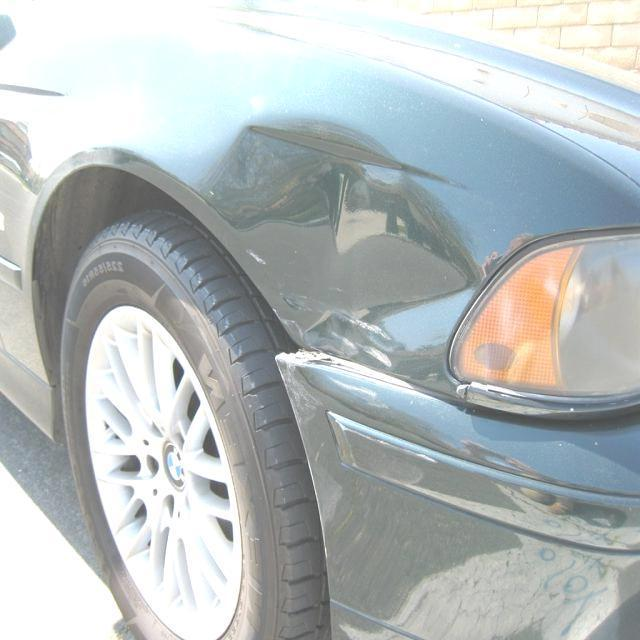minor: (311, 370, 372, 404)
moderate: (177, 92, 488, 395), (330, 414, 625, 516)
